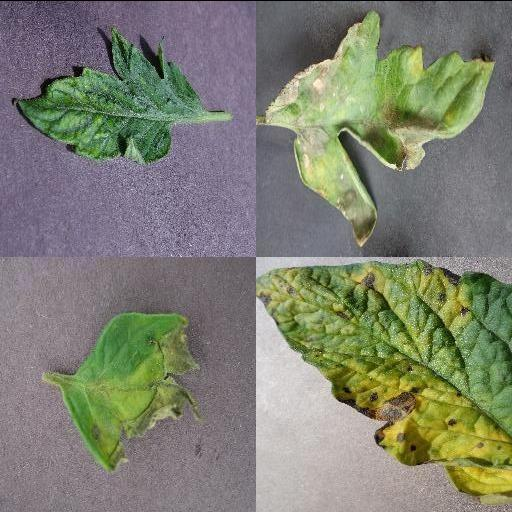Early Blight: (256, 260, 512, 498)
Late Blight: (266, 9, 498, 247), (55, 310, 203, 472)
Mosaic Virus: (10, 27, 204, 165)
